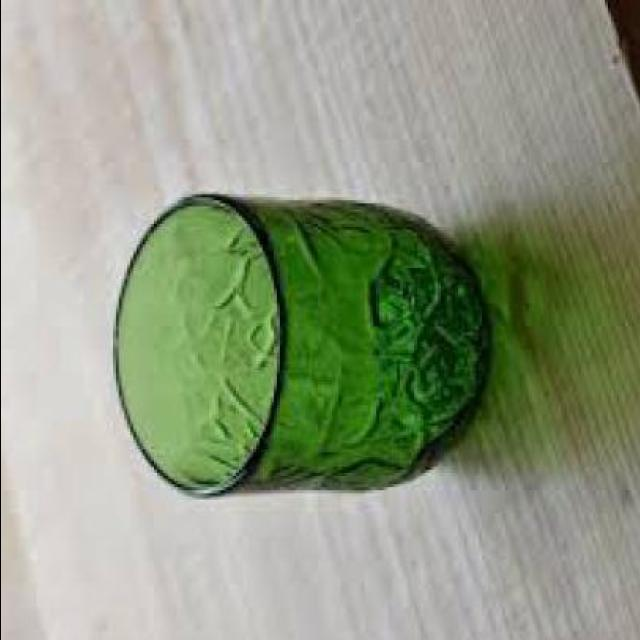kaca: (108, 191, 490, 493)
